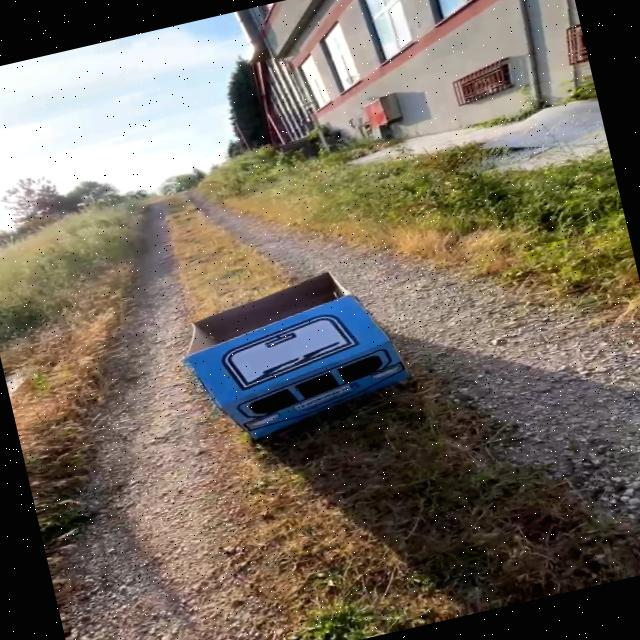blue_car: (99, 235, 483, 511)
